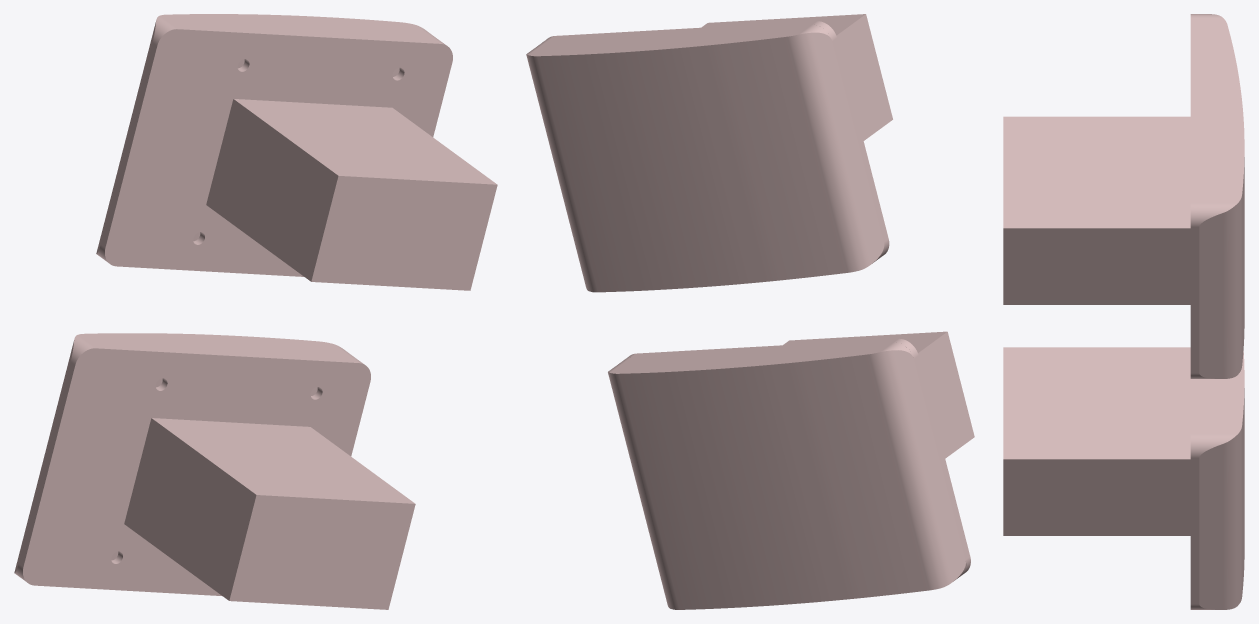
File: POWER ARCHITECTURE__SMARTPLUG INLET SYSTEM__breakers.glb
3 renders of one model, left to right at view 1: azimuth 30°, elevation 25°; view 2: azimuth 150°, elevation 25°; view 3: azimuth 270°, elevation 25°, orthographic. The views are drawn at different scales.
Size of the model in its own units: 0.1654 by 0.2211 by 0.0901.
